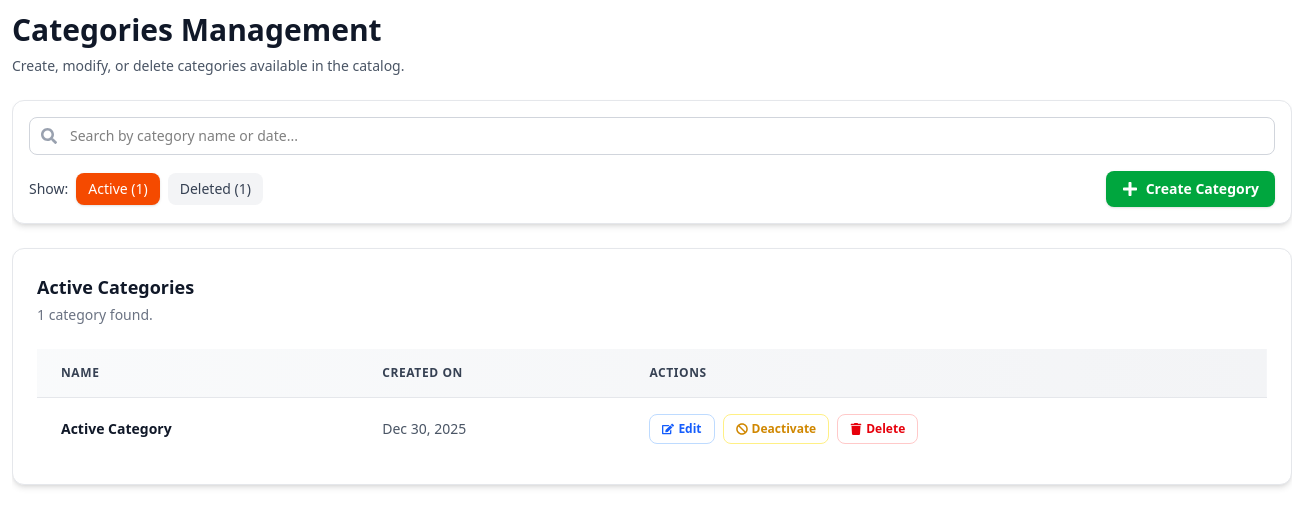
Scenario: AdminCategories › toggles between active and deleted categories
Expected: the text "Active Category" is shown, [61,419,172,438]
Click the button "Deleted (1)" at {"x": 215, "y": 189}, box [168,173,263,205]
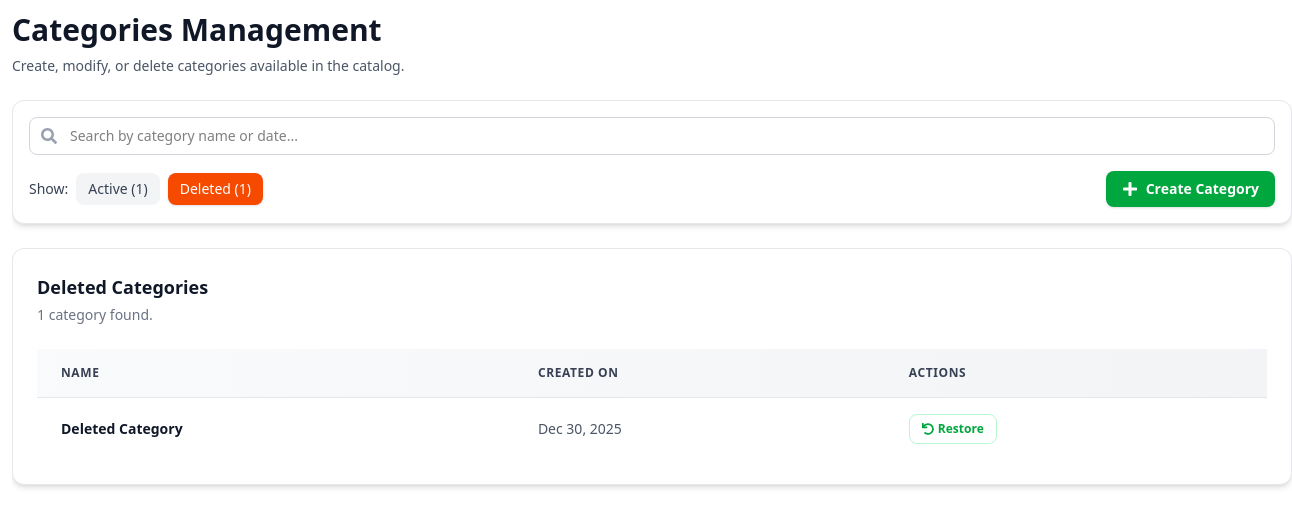
Expected: the text "Deleted Category" is shown, [61,419,183,438]
